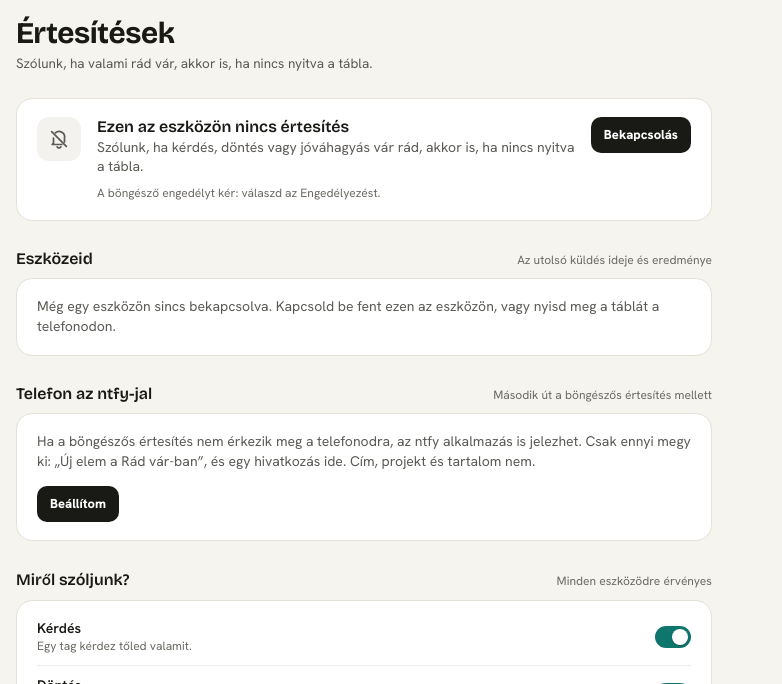
Test: this device › asks for the permission on the press, subscribes and shows the device as this one
Click the button "Bekapcsolás": {"x": 641, "y": 135} left=591, top=117, right=691, bottom=153
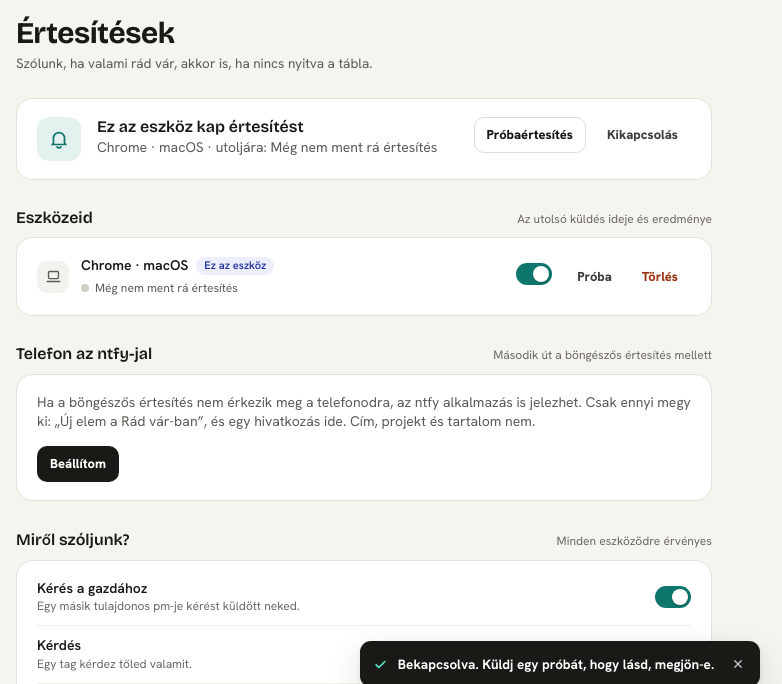
Expected: the text "Ez az eszköz kap értesítést" is shown, left=97, top=117, right=304, bottom=136
Expected: the text "Bekapcsolva. Küldj egy próbát, hogy lásd, megjön-e." is shown, left=398, top=654, right=714, bottom=673
Expected: the text "Ez az eszköz" is shown, left=196, top=258, right=274, bottom=275
